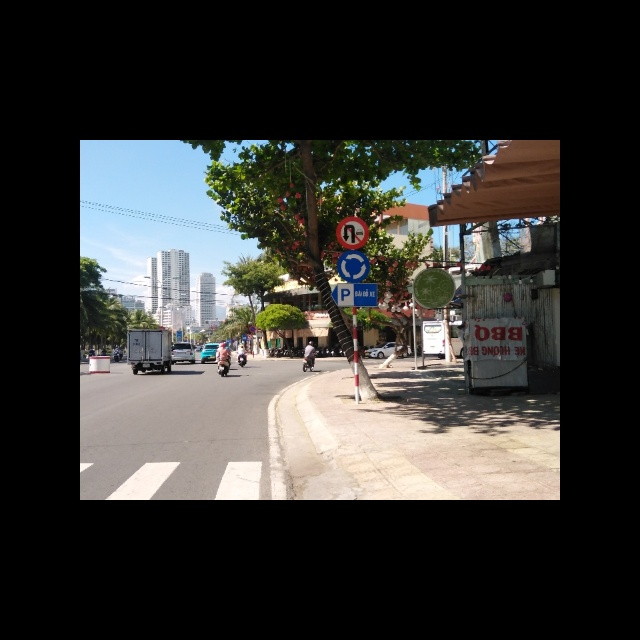Cấm xe ô tô quay đầu: (335, 215, 369, 250)
Nơi giao nhau chạy theo vòng xuyến: (336, 250, 372, 283)
Nơi đỗ xe: (328, 283, 378, 308)
